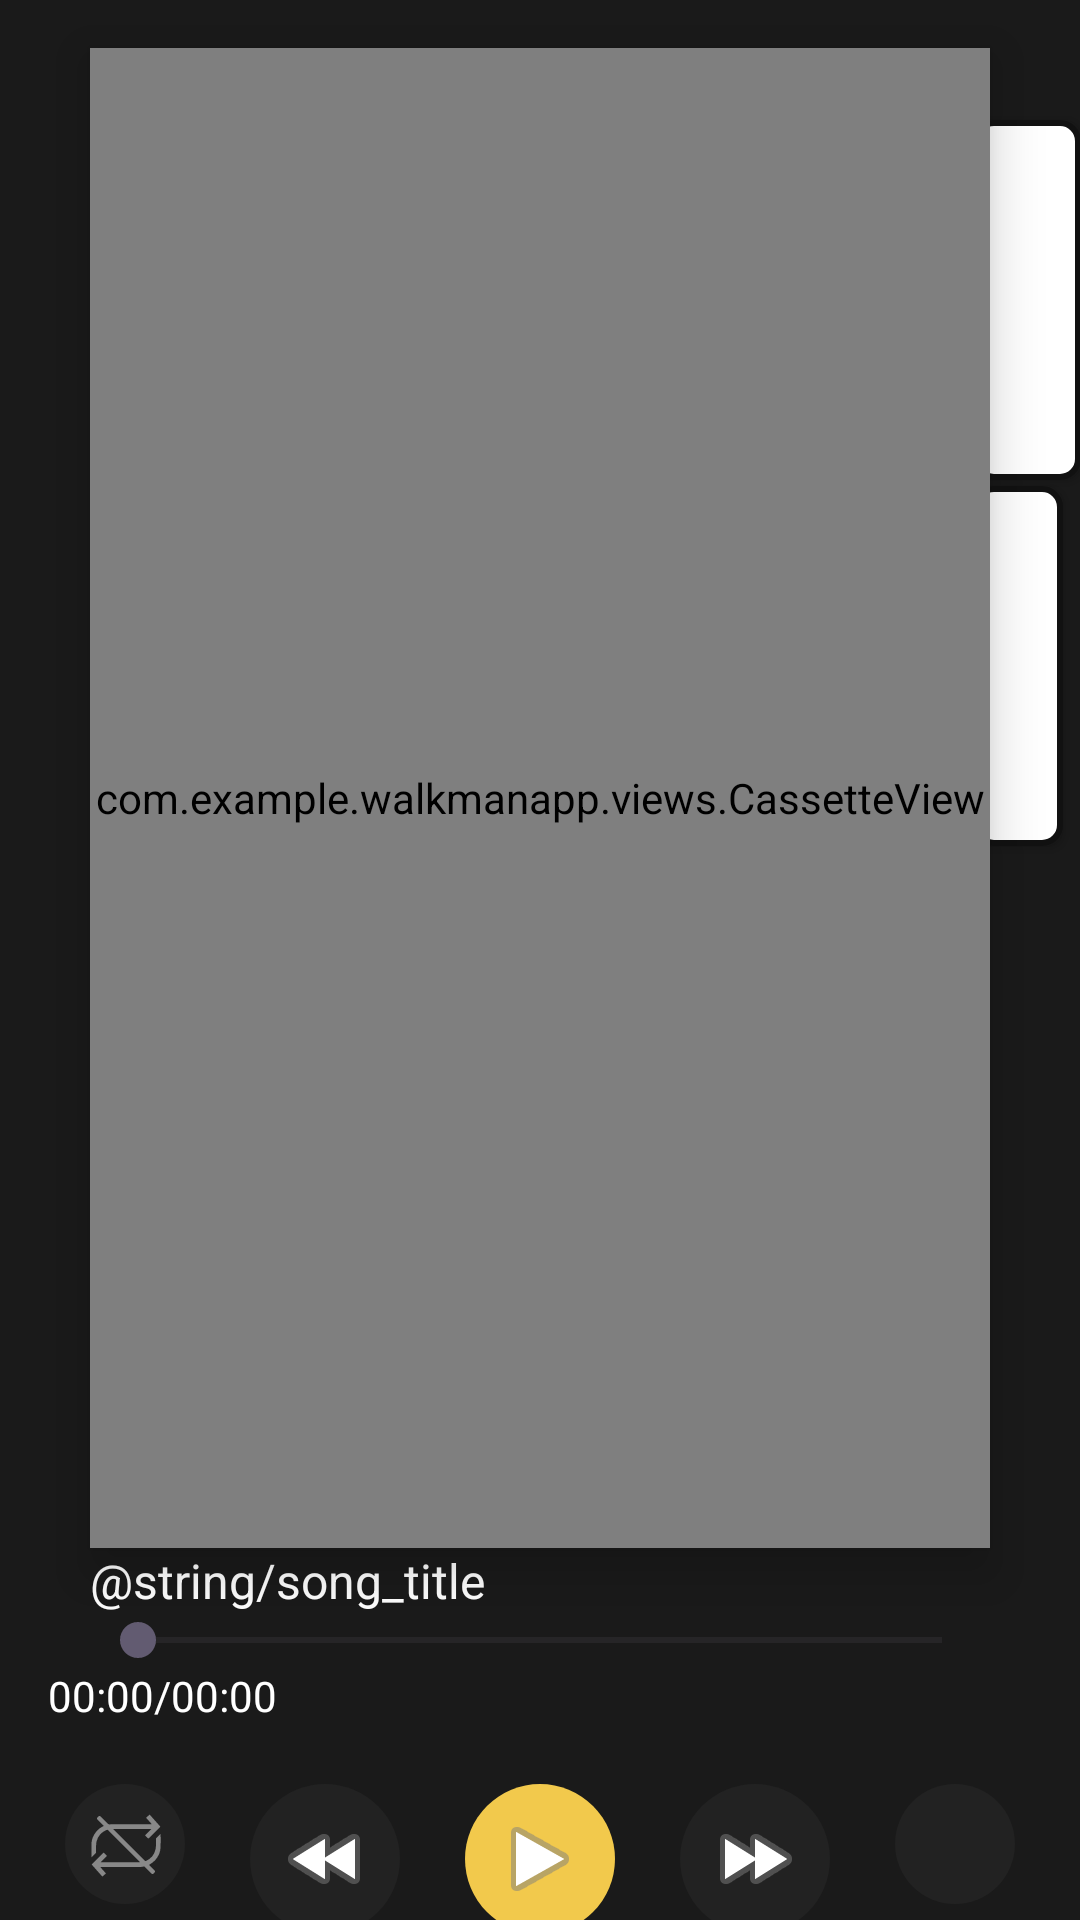

Named icons in this screenshot (1080*1920) and their bounding boxes, (x1, y1, x2, y2):
drepeat: (91, 1814, 161, 1877)
play: (465, 1784, 615, 1920)
rew: (288, 1834, 360, 1884)
